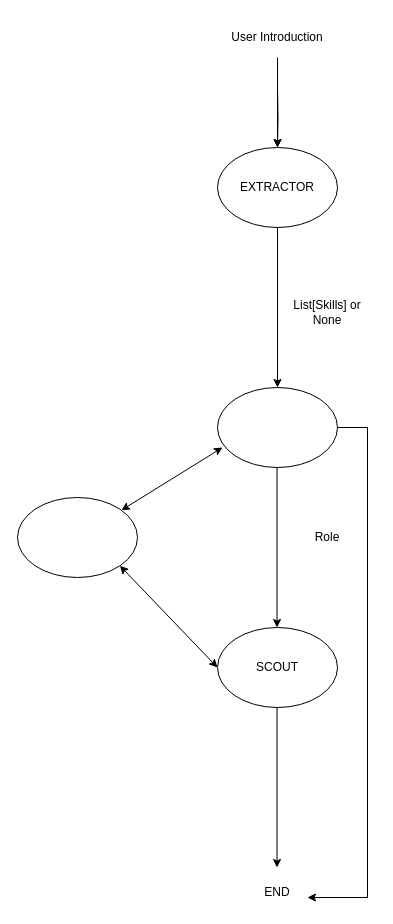
Image size: 393x924. Some labels were removed from this diagram. The shapes that lost their labels are listed below. From the top down, each one's centre as x and y in pixels, then its label:
At point (277, 427): "ADVISOR".
At point (77, 537): "TOOL NODE".
